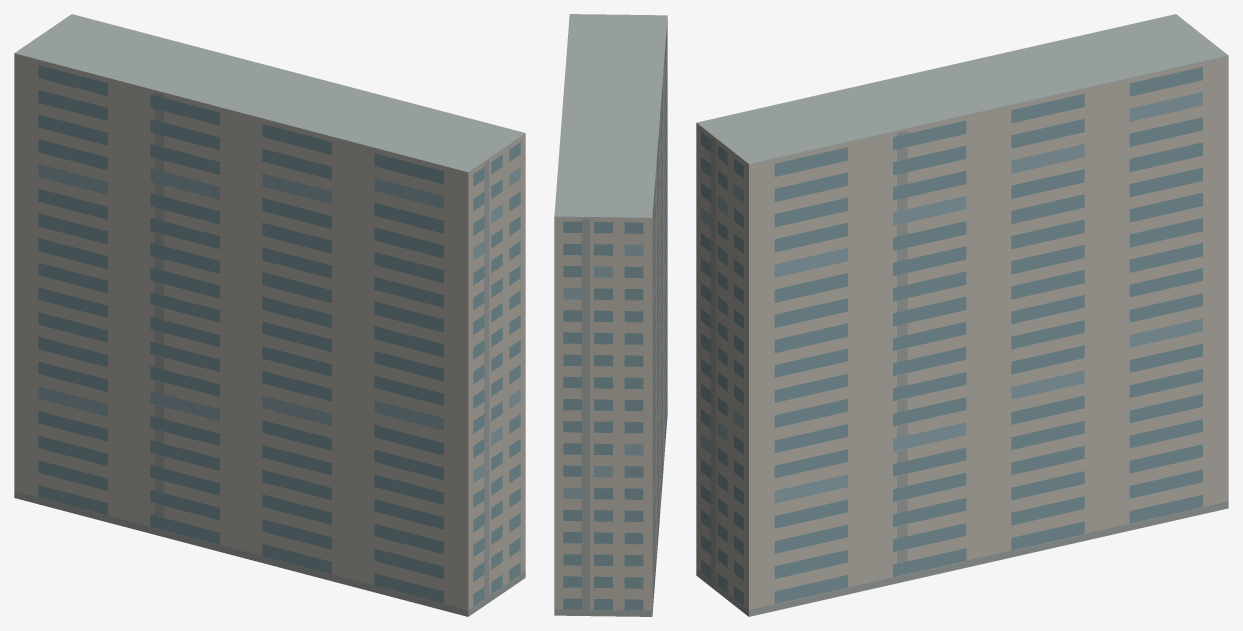
The model's file is residential-796ba87a-fc77-4b9c-b601-c9150aed5616.glb.
3 views of the same model, side by side, from view 1: azimuth 30°, elevation 25°; view 2: azimuth 150°, elevation 25°; view 3: azimuth 270°, elevation 25° (orthographic). The views are drawn at different scales.
Visible parts, largest first — view 1: residential-796ba87a-fc77-4b9c-b601-c9150aed5616.tmp; view 2: residential-796ba87a-fc77-4b9c-b601-c9150aed5616.tmp; view 3: residential-796ba87a-fc77-4b9c-b601-c9150aed5616.tmp.
Boxes of the visible parts, x1,y1,x2,y2 form: residential-796ba87a-fc77-4b9c-b601-c9150aed5616.tmp: [14, 14, 525, 616]; residential-796ba87a-fc77-4b9c-b601-c9150aed5616.tmp: [554, 14, 667, 616]; residential-796ba87a-fc77-4b9c-b601-c9150aed5616.tmp: [696, 14, 1228, 616].
Size of the model in its own units: 35.53 by 50 by 53.25.
